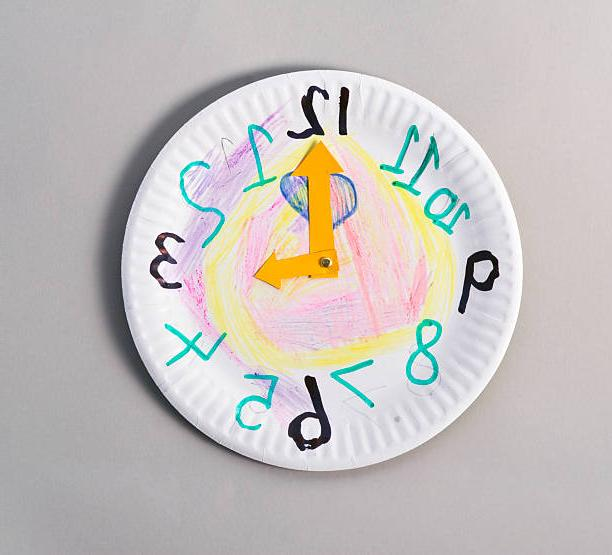clock: (118, 69, 521, 478)
